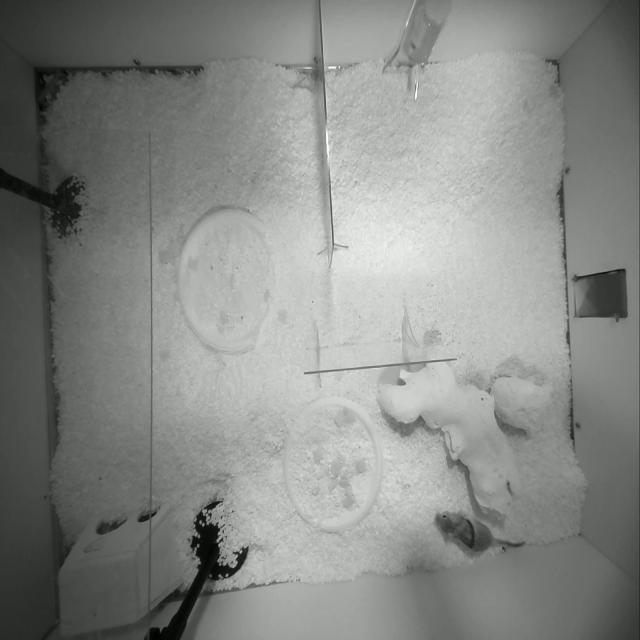adult_front: (435, 511, 524, 553)
